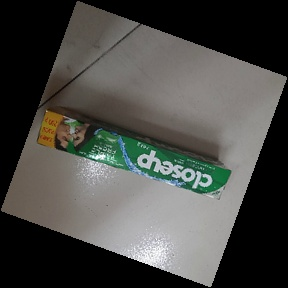CloseUp Xanh: (36, 106, 233, 203)
